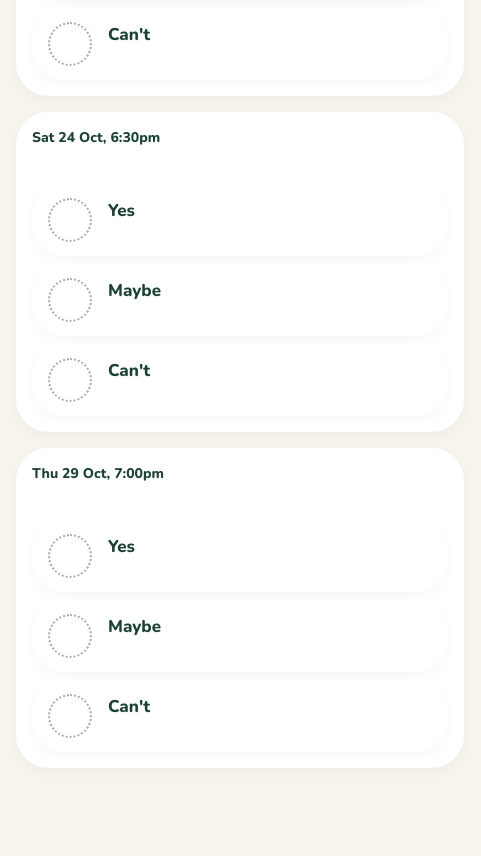
it: EventParticipantRespondFlow multi-time attendance › shows confirm-race copy and un-presses when another time was confirmed
(page scrolled)
Click the button "Yes" below "Thu 29 Oct, 7:00pm": (70, 556) [32,520,448,592]
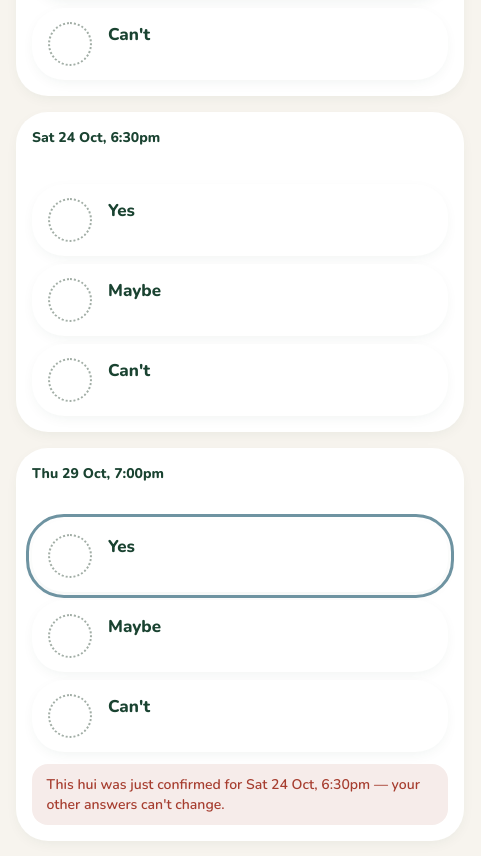
Result: the message is shown at [32,764,448,825]
